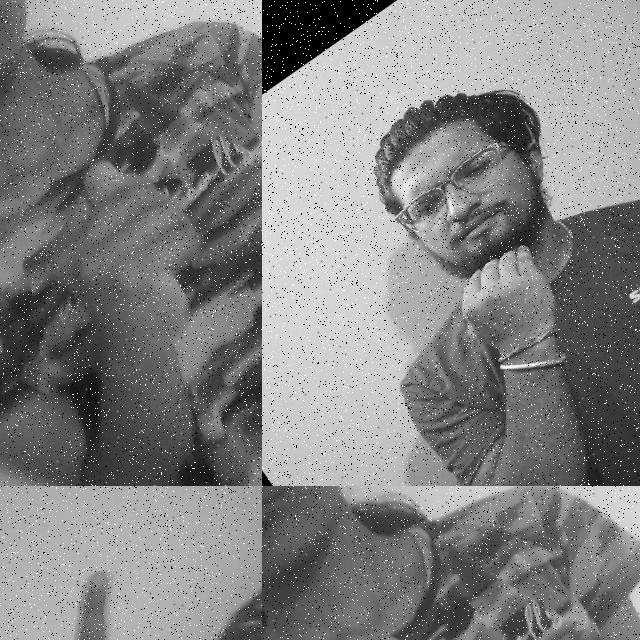Chin Flick: (328, 59, 638, 395)
Dulya: (1, 122, 262, 407), (313, 581, 586, 640)
Reversed Victory: (0, 536, 262, 640)
